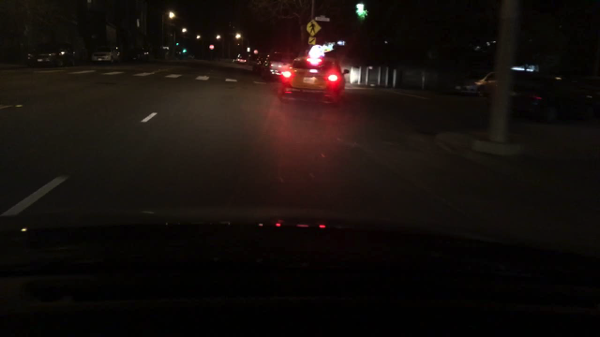car: (278, 46, 349, 103), (516, 76, 591, 124), (473, 60, 539, 101), (24, 45, 81, 68), (261, 51, 301, 81), (92, 44, 121, 65), (251, 53, 267, 74), (453, 81, 478, 94), (235, 55, 247, 64)
traffic light: (357, 4, 365, 17), (181, 48, 187, 53)
traffic sign: (306, 20, 322, 36), (316, 15, 330, 22), (308, 35, 316, 45)
